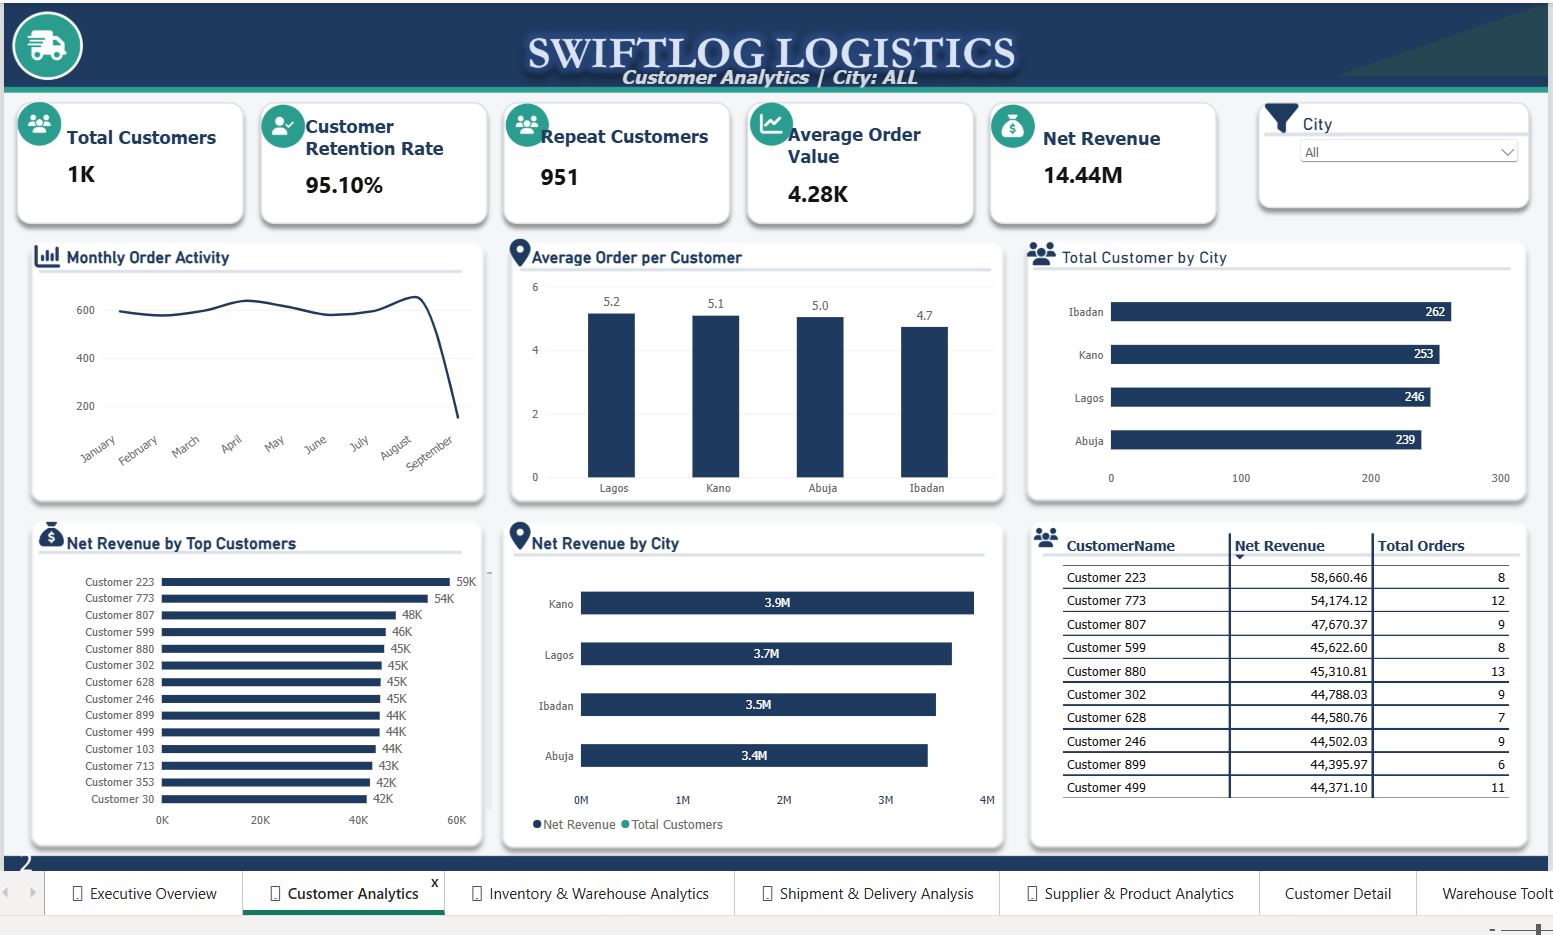

This screenshot's page, from the dashboard's own definition file:
{"tool":"powerbi","page":{"name":"Customer Analytics","canvas":[1920,1080],"ordinal":1},"visuals":[{"type":"cardVisual","fields":{"Data":["Customers.Total Customers"]},"box":[62,115.6,231.1,155.8],"z":0},{"type":"clusteredBarChart","title":"Total Customer by City","fields":{"Category":["Customers.City"],"Y":["CountNonNull(Customers.CustomerID)"]},"box":[1299.8,289.8,589.6,331.6],"z":1000},{"type":"barChart","title":"Net Revenue by Top Customers","fields":{"Category":["Customers.CustomerName"],"Y":["Customers.Net Revenue"]},"box":[62,644.9,561.1,400.3],"z":2000},{"type":"slicer","fields":{"Values":["Customers.City"]},"box":[1607.9,139,281.4,73.7],"z":3000},{"type":"cardVisual","fields":{"Data":["Customers.Repeat Customers"]},"box":[651.6,125.6,246.2,135.7],"z":4000},{"type":"cardVisual","fields":{"Data":["Customers.Customer Retention Rate"]},"box":[358.4,115.6,242.4,155.2],"z":5000},{"type":"cardVisual","fields":{"Data":["Orders.Average Order Value"]},"box":[959.7,139,254.6,130.6],"z":6000},{"type":"cardVisual","fields":{"Data":["Customers.Net Revenue"]},"box":[1276.3,125.6,231.1,135.7],"z":7000},{"type":"tableEx","fields":{"Values":["Customers.CustomerName","Customers.Net Revenue","Orders.Total Orders"]},"box":[1299.5,645.1,589.1,407.3],"z":8000},{"type":"columnChart","title":"Average Order per Customer","fields":{"Category":["Customers.City"],"Y":["Customers.Average Order per Customer"]},"box":[639.8,289.8,608,343.4],"z":9000},{"type":"barChart","title":"Net Revenue by City","fields":{"Category":["Customers.City"],"Y":["Customers.Net Revenue","Customers.Total Customers"]},"box":[639.8,644.9,608,407],"z":10000},{"type":"lineChart","title":"Monthly Order Activity ","fields":{"Category":["Orders.OrderDate.Variation.Date Hierarchy.Month"],"Y":["Orders.Total Orders"]},"box":[62.2,289.1,539.4,331.1],"z":11000},{"type":"cardVisual","fields":{"Data":["Customers.Customer Title"]},"box":[626.2,43.6,650.8,95.8],"z":13000}]}

Visuals, with their boxes on the page's 1920x1080 design canvas (x1, y1, x2, y2). These are canvas units, not pixel positions in the 1553x935 screenshot, which may show the page scaled, cropped or inside an application window:
cardVisual - Customers.Total Customers: left=62, top=116, right=293, bottom=271
"Total Customer by City" clusteredBarChart: left=1300, top=290, right=1889, bottom=621
"Net Revenue by Top Customers" barChart: left=62, top=645, right=623, bottom=1045
slicer - Customers.City: left=1608, top=139, right=1889, bottom=213
cardVisual - Customers.Repeat Customers: left=652, top=126, right=898, bottom=261
cardVisual - Customers.Customer Retention Rate: left=358, top=116, right=601, bottom=271
cardVisual - Orders.Average Order Value: left=960, top=139, right=1214, bottom=270
cardVisual - Customers.Net Revenue: left=1276, top=126, right=1507, bottom=261
tableEx - Customers.CustomerName x Customers.Net Revenue: left=1300, top=645, right=1889, bottom=1052
"Average Order per Customer" columnChart: left=640, top=290, right=1248, bottom=633
"Net Revenue by City" barChart: left=640, top=645, right=1248, bottom=1052
"Monthly Order Activity " lineChart: left=62, top=289, right=602, bottom=620
cardVisual - Customers.Customer Title: left=626, top=44, right=1277, bottom=139
